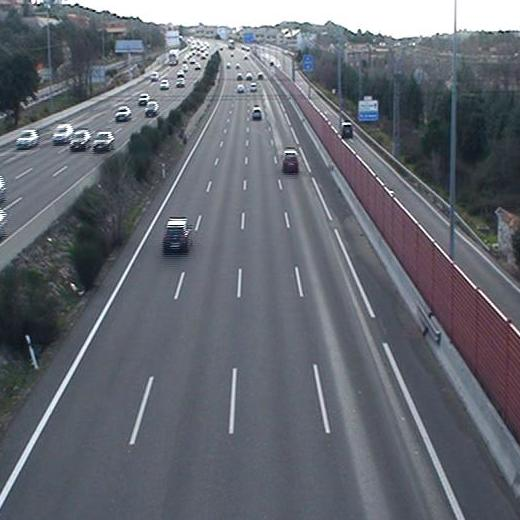car: (163, 217, 190, 253), (283, 148, 298, 172), (252, 107, 261, 119)
